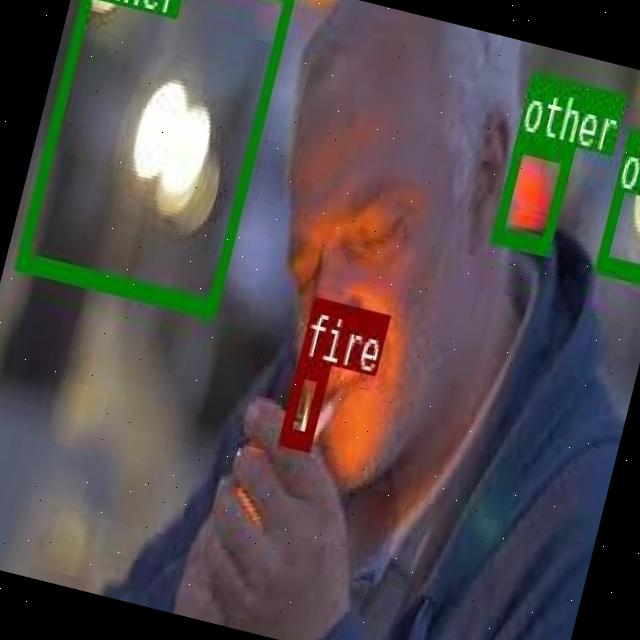fire: (278, 354, 330, 447)
